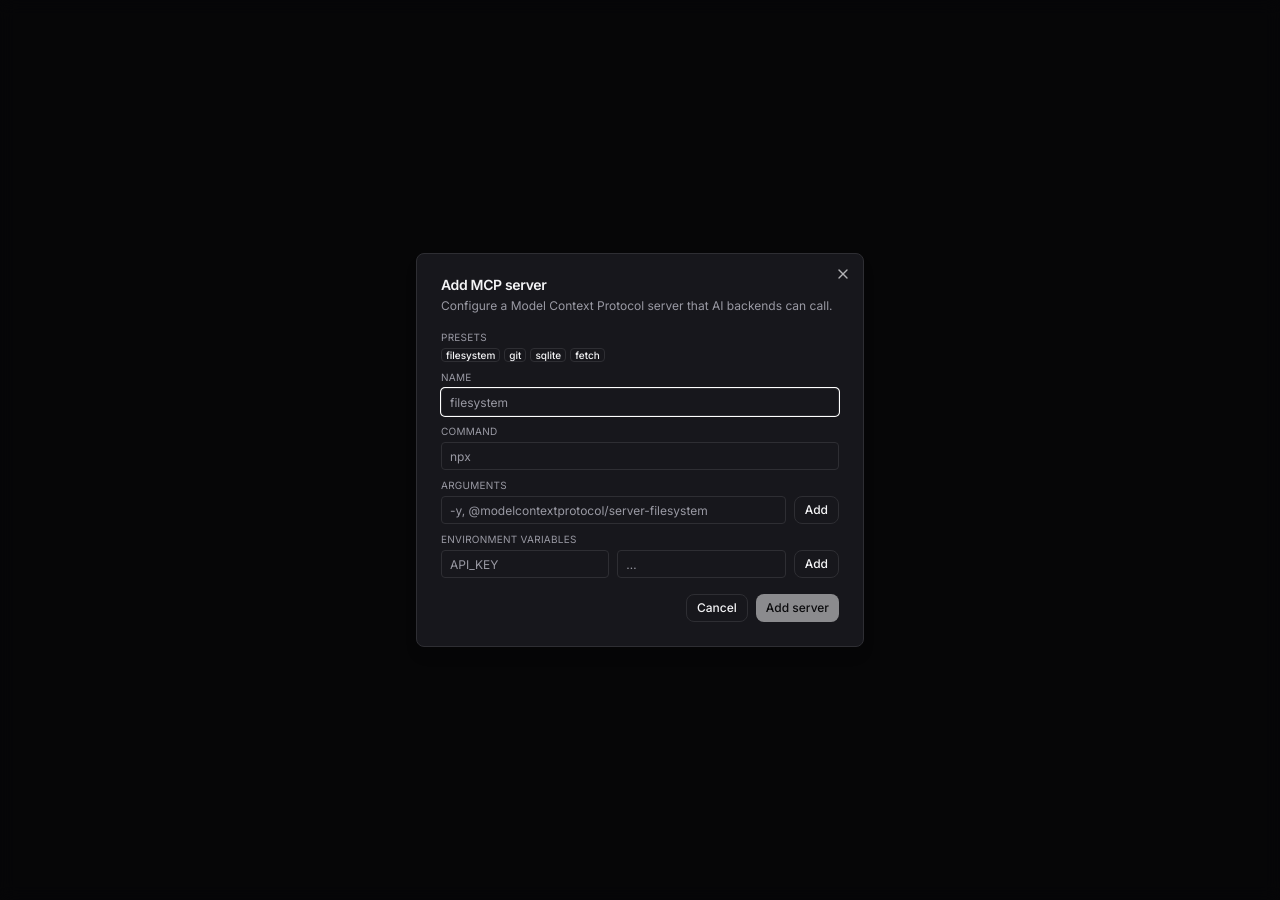
Test: AddMCPDialog › surfaces error on failure
The image size is (1280, 900).
Step 1. Type "x" into the field with test id "mcp-name" → (640, 402), box [441,388,839,416]
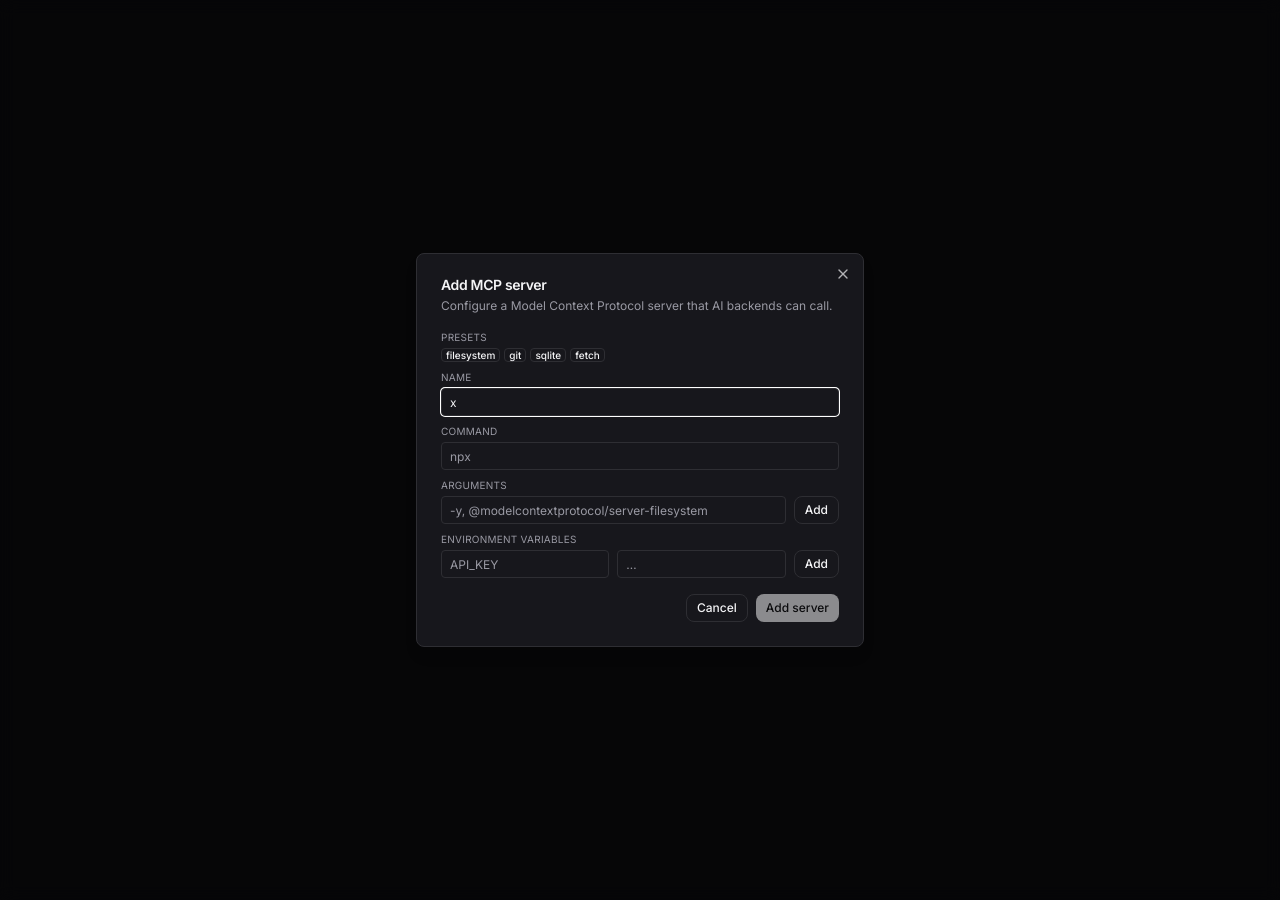
Step 2. Type "y" into the field with test id "mcp-command" → (640, 456), box [441,442,839,470]
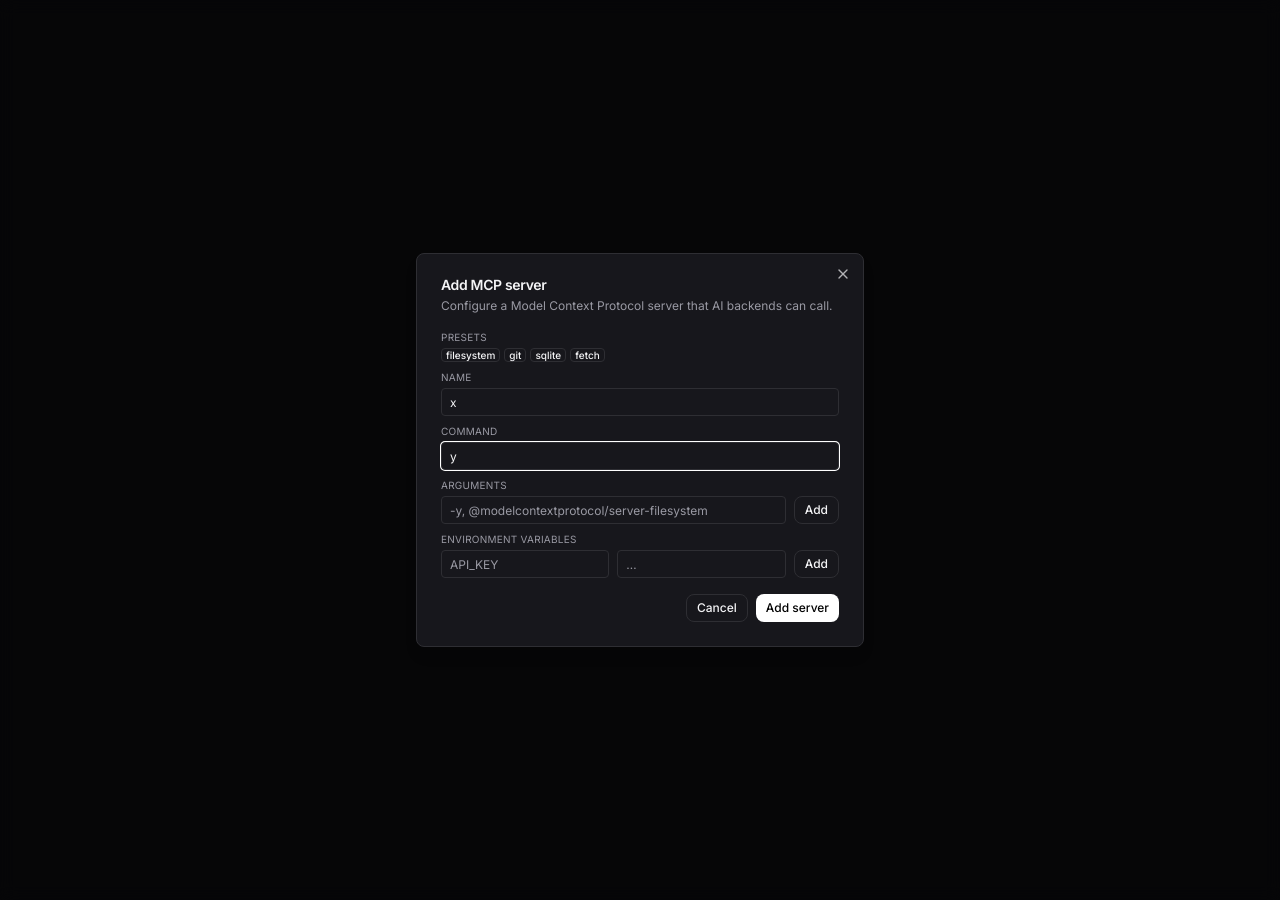
Step 3. Click the button with test id "mcp-add-submit" → (797, 608), box [756,594,839,622]
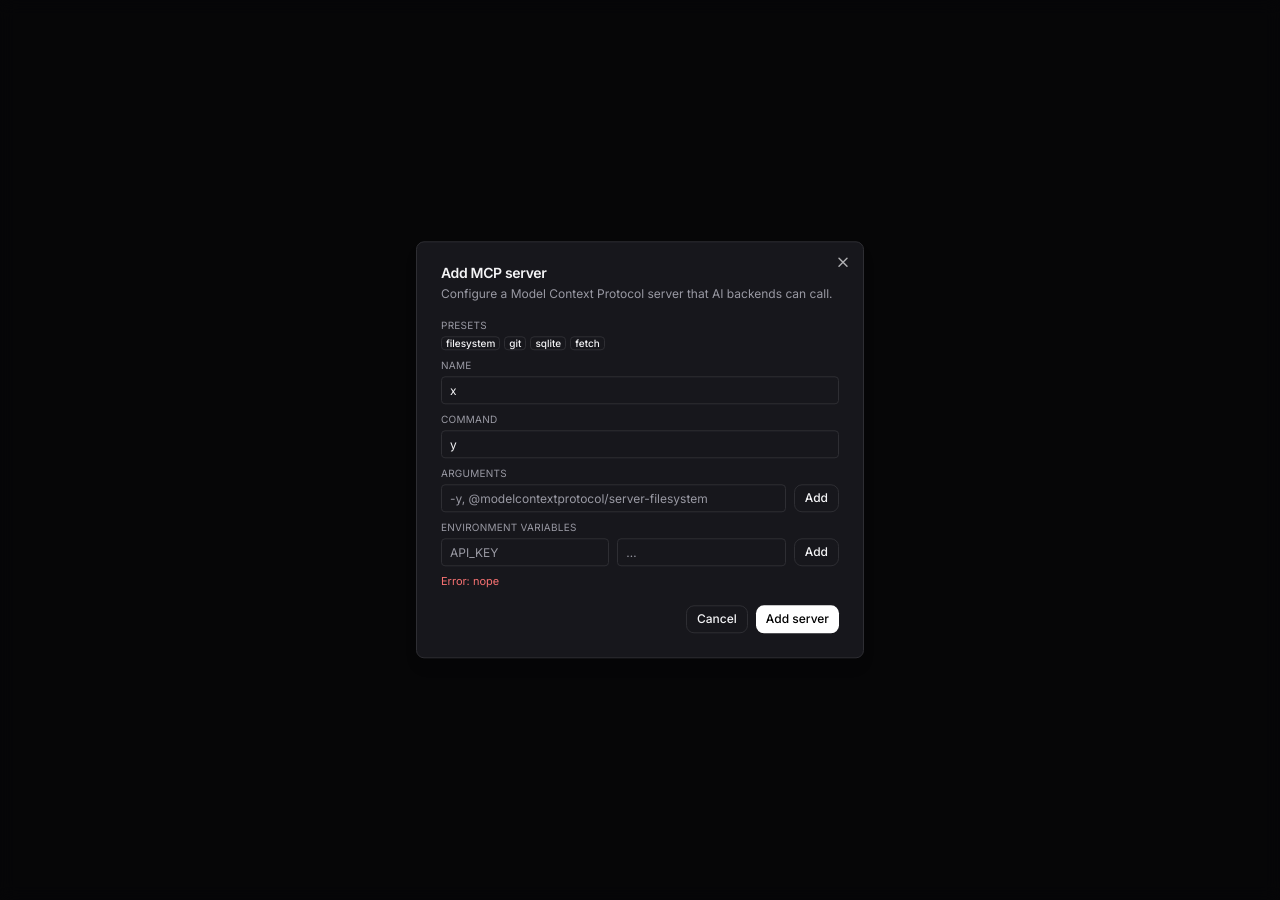
Now the text "Error: nope" is shown, box [441,574,499,588]
